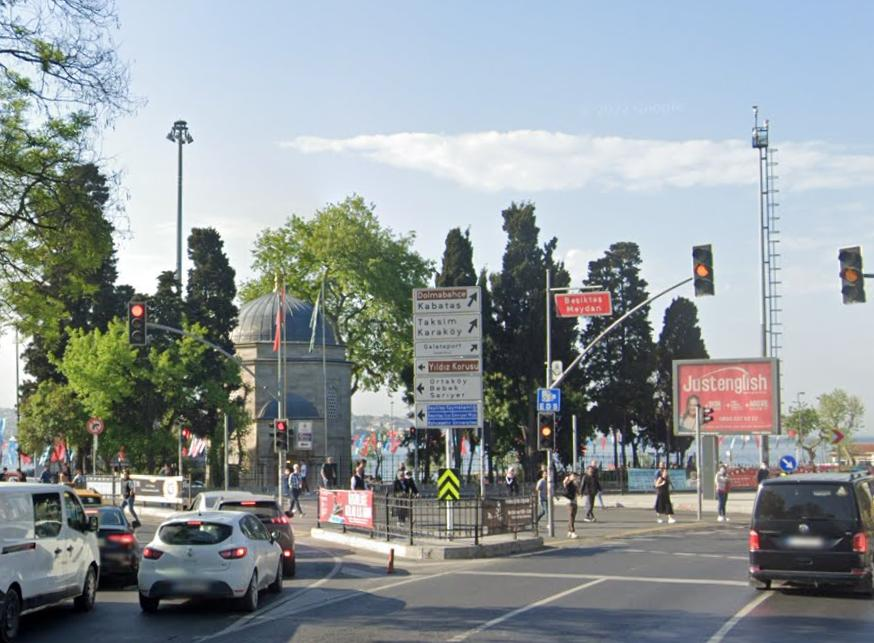redlight: (129, 301, 146, 345), (275, 419, 289, 449), (179, 424, 190, 454)
rightturnsareforbidden: (88, 419, 103, 433)
yellowlight: (837, 247, 865, 309), (693, 245, 712, 295), (537, 410, 555, 451)
